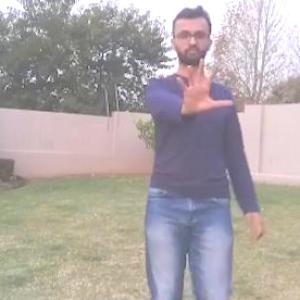follow_hand: (173, 51, 235, 115)
